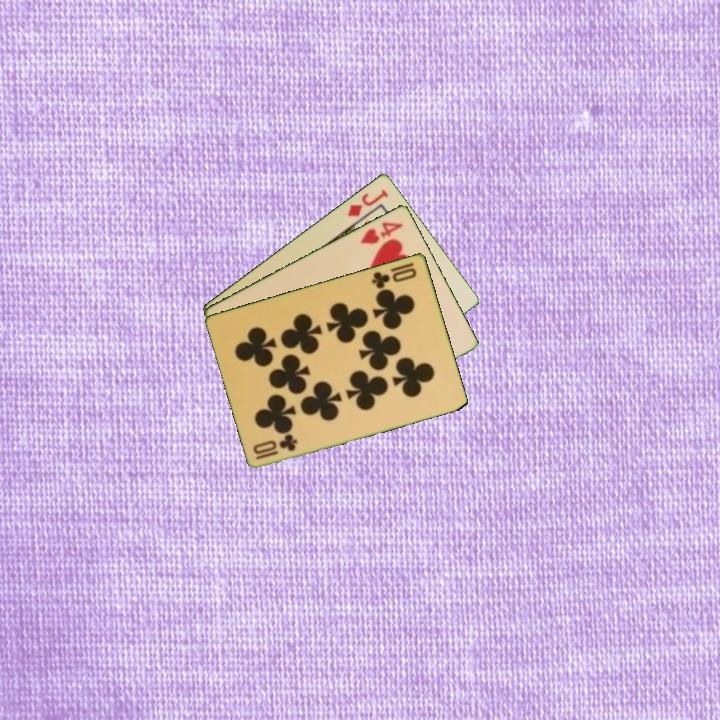10c: (250, 431, 301, 462), (368, 264, 420, 291)
4h: (357, 218, 406, 247)
Jd: (344, 185, 391, 219)
